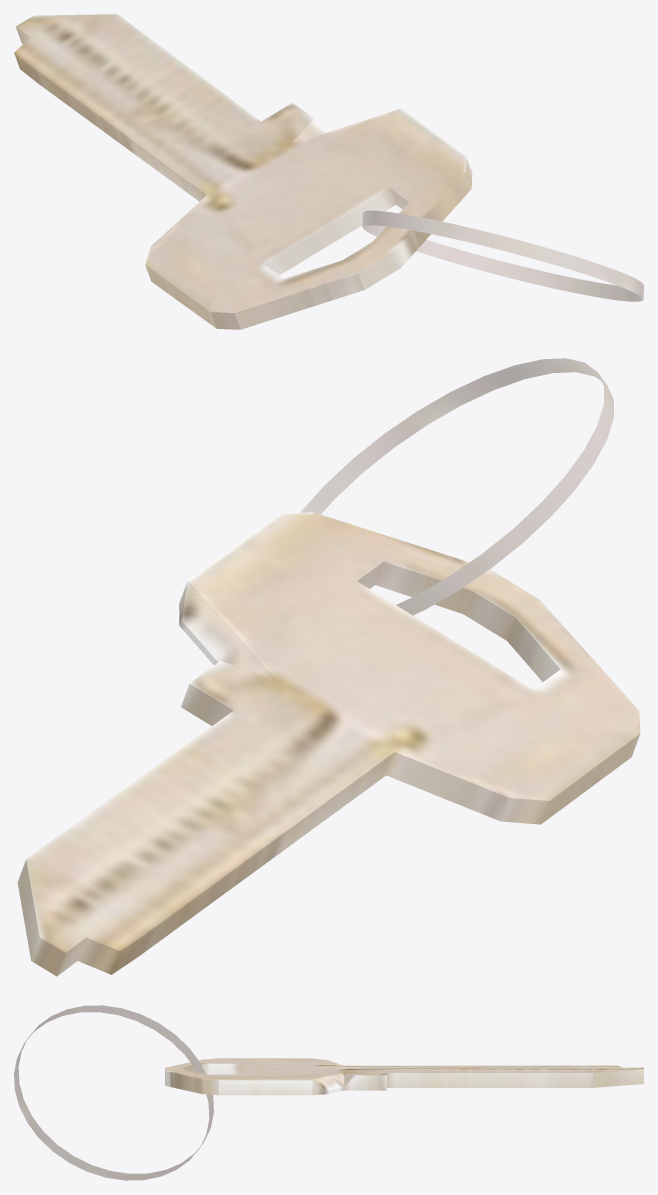
Rendered from key.gltf.
The picture shows the model from 3 angles, top to bottom: view 1: azimuth 30°, elevation 25°; view 2: azimuth 150°, elevation 25°; view 3: azimuth 270°, elevation 25°; orthographic projection. The views are drawn at different scales.
Parts seen in each view (by area): view 1: body, Circle; view 2: body, Circle; view 3: body, Circle.
Boxes of the visible parts, x1=… form: body: x1=14, y1=14, x2=472, y2=329; Circle: x1=362, y1=210, x2=643, y2=301; body: x1=17, y1=512, x2=640, y2=976; Circle: x1=300, y1=358, x2=613, y2=615; body: x1=165, y1=1058, x2=643, y2=1095; Circle: x1=14, y1=1005, x2=213, y2=1180.
Bounding box in the file's own units: 0.1431 × 0.0639 × 0.334.
Materials: 2 (2 with a texture image).
